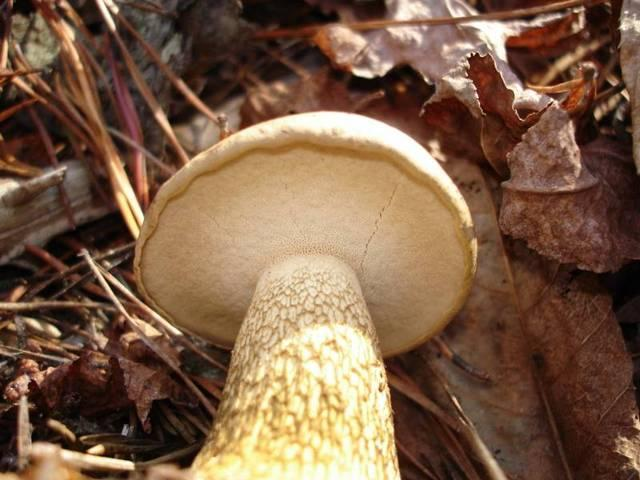Non-edible Mushroom: (131, 108, 479, 478)
